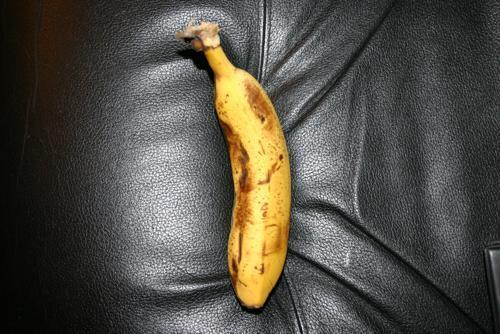banana: (205, 68, 299, 312)
